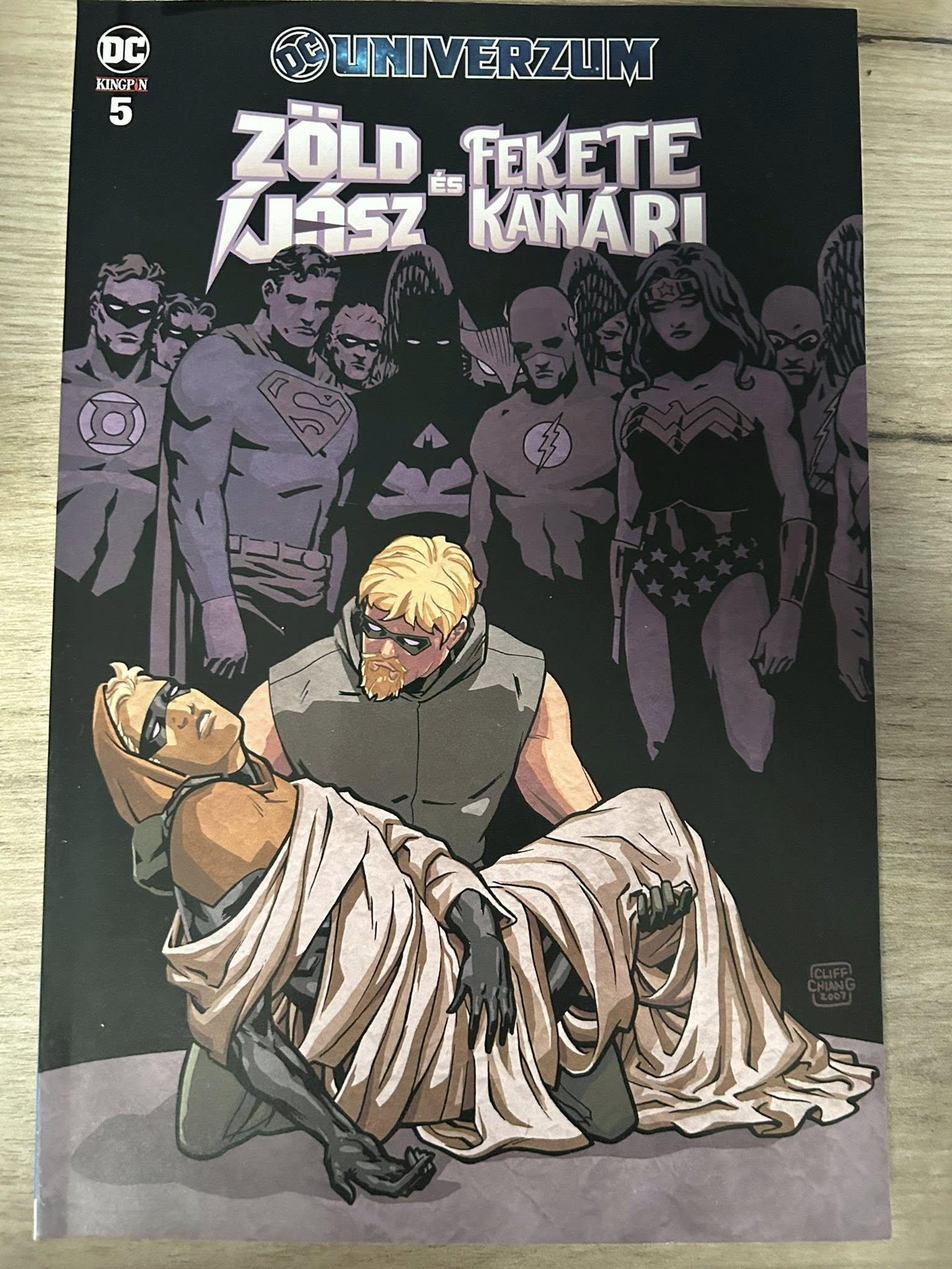comic: (36, 0, 907, 1250)
